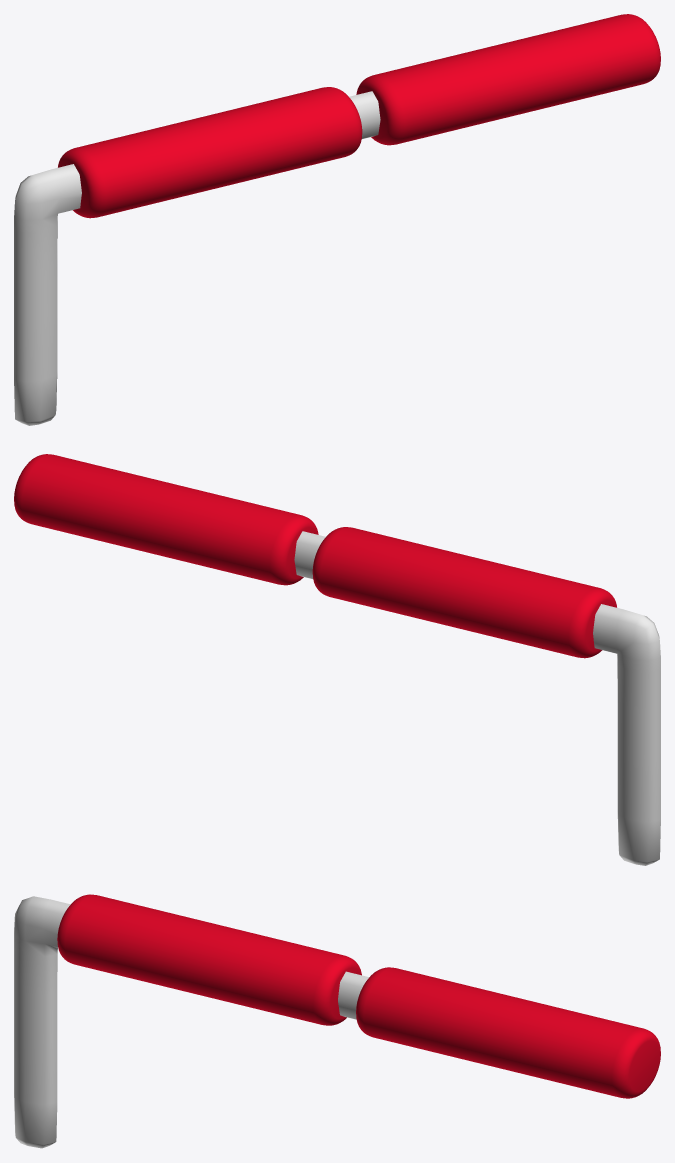
File: tek_engel.fbx
3 renders of one model, top to bottom at view 1: azimuth 30°, elevation 25°; view 2: azimuth 150°, elevation 25°; view 3: azimuth 330°, elevation 25°, orthographic.
Visible parts, largest first — view 1: engel 1; view 2: engel 1; view 3: engel 1.
Boxes of the visible parts, x1,y1,x2,y2 form: engel 1: (14,14,660,425); engel 1: (14,454,660,865); engel 1: (14,894,660,1148).
Bounding box in the file's own units: 713 × 277 × 81.33.
